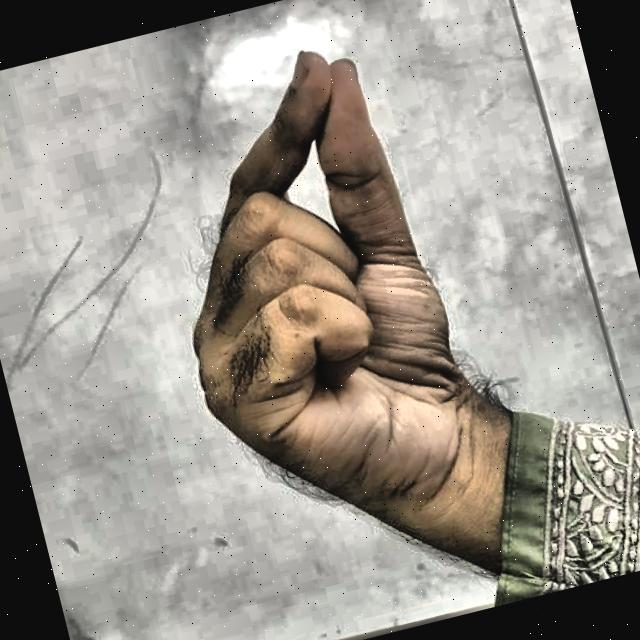Anusshar: (87, 0, 580, 627)
